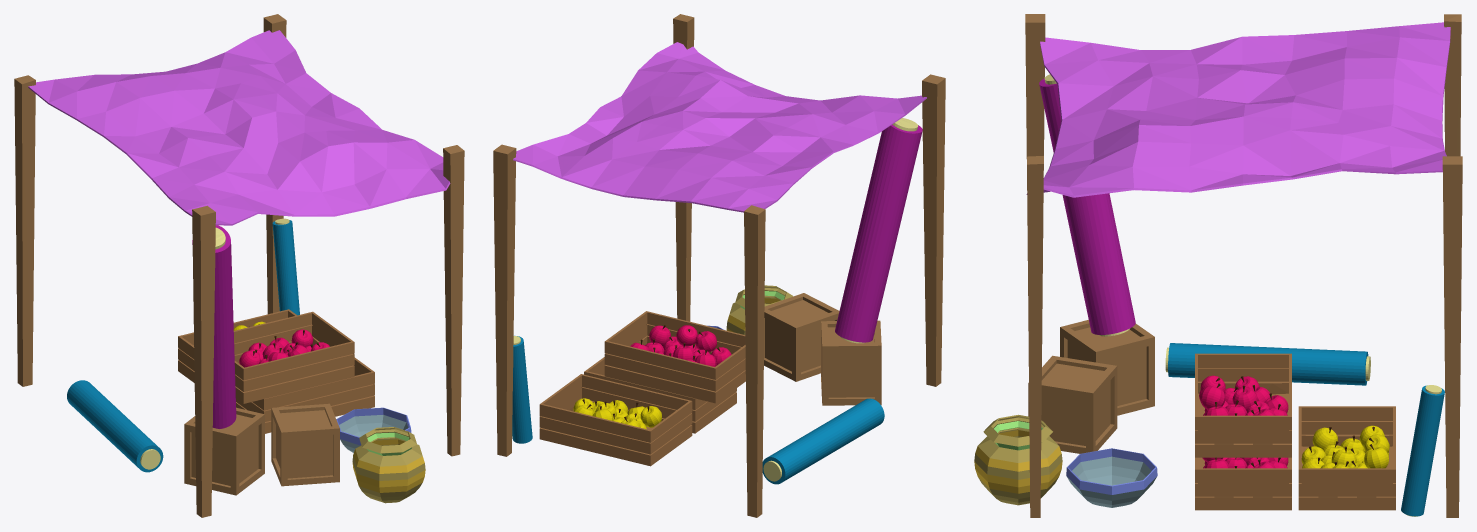
File: SL_Shop3.fbx
3 renders of one model, left to right at view 1: azimuth 30°, elevation 25°; view 2: azimuth 150°, elevation 25°; view 3: azimuth 270°, elevation 25°, orthographic. The views are drawn at different scales.
Parts seen in each view (by area): view 1: SL_Shop.007; view 2: SL_Shop.007; view 3: SL_Shop.007.
Boxes of the visible parts, <box> form: SL_Shop.007: <box>14,14,464,517</box>; SL_Shop.007: <box>493,14,945,517</box>; SL_Shop.007: <box>974,14,1462,517</box>.
Bounding box in the file's own units: 613 × 705 × 822.
